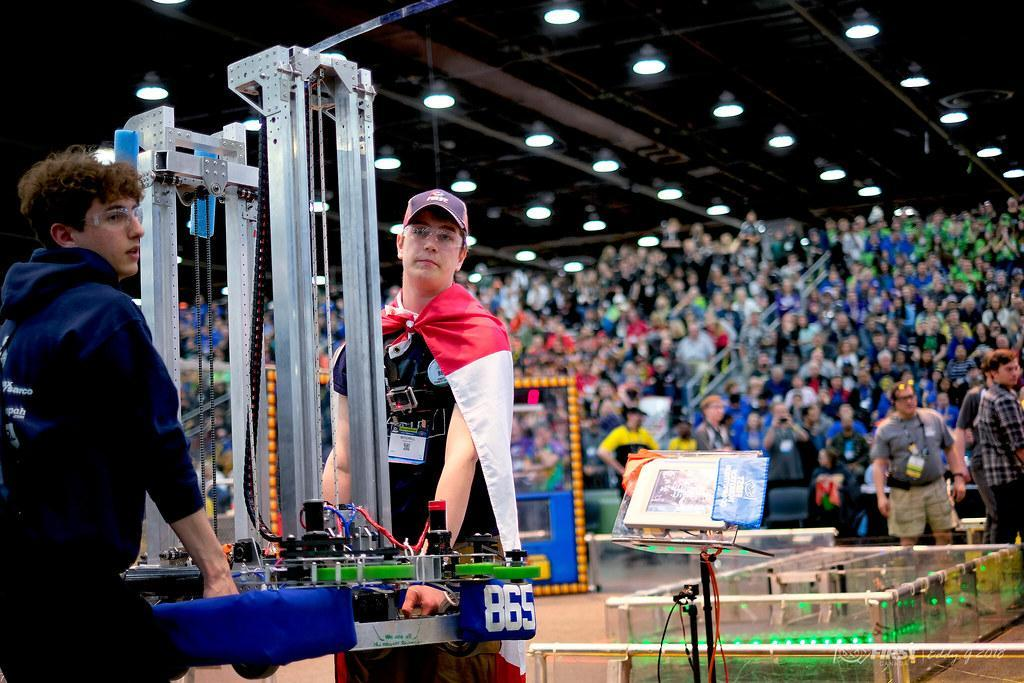robot: (66, 46, 540, 659)
